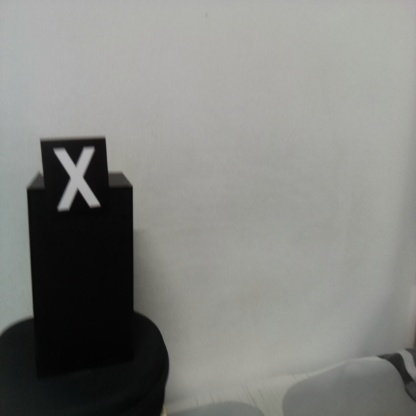id_13: (39, 138, 111, 223)
